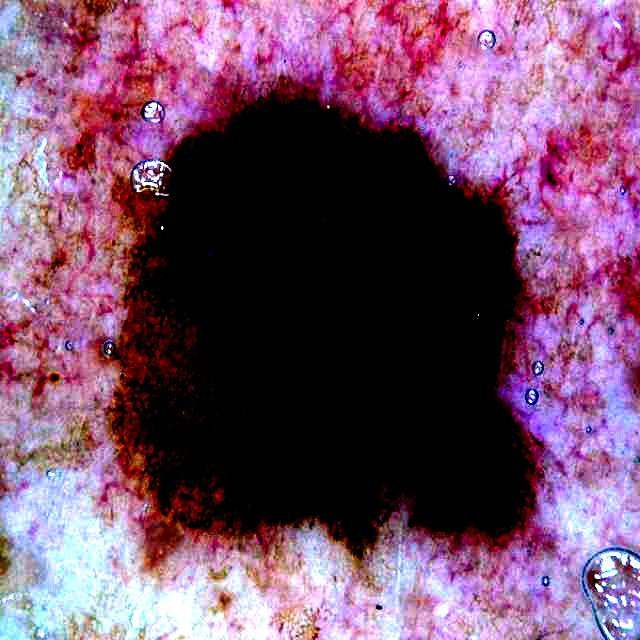MEL: (118, 104, 519, 543)
